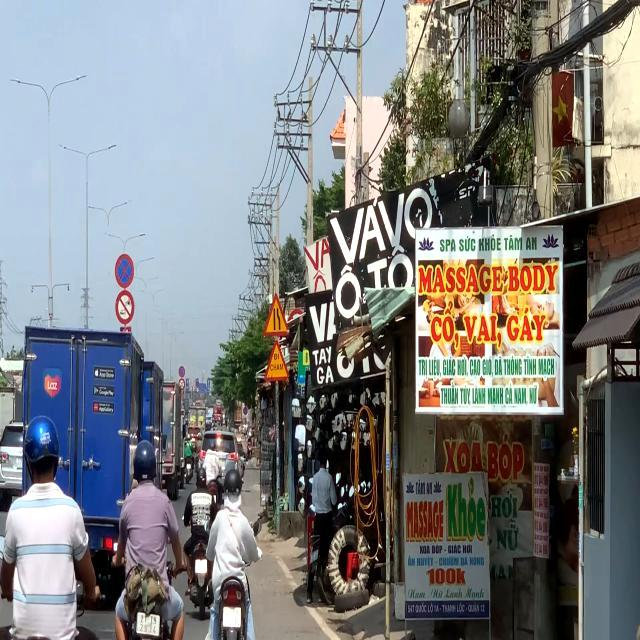Cam dung xe va do xe: (114, 252, 135, 291)
Di cham: (264, 339, 290, 382)
